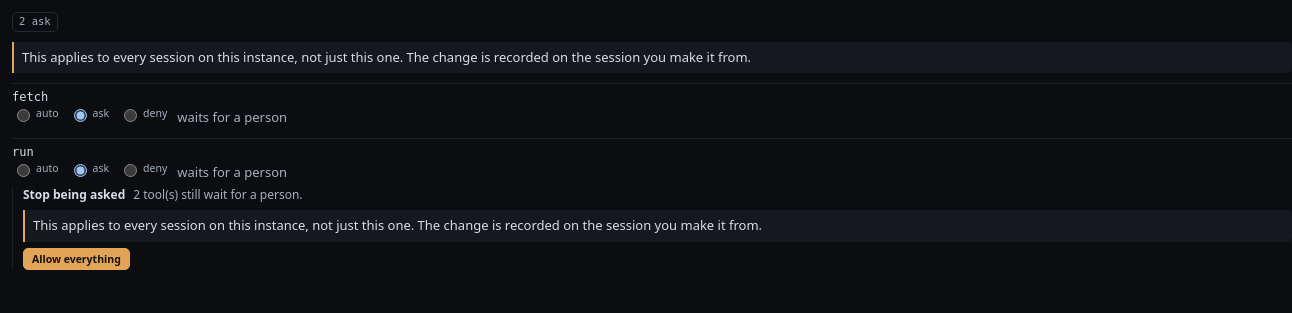
it: shows the same state on both surfaces after a write
Expected: the radio button labelled "ask" below "fetch" is checked, [74,109,86,122]
Click the button "Allow everything" at point(76, 259), box [23,248,130,270]
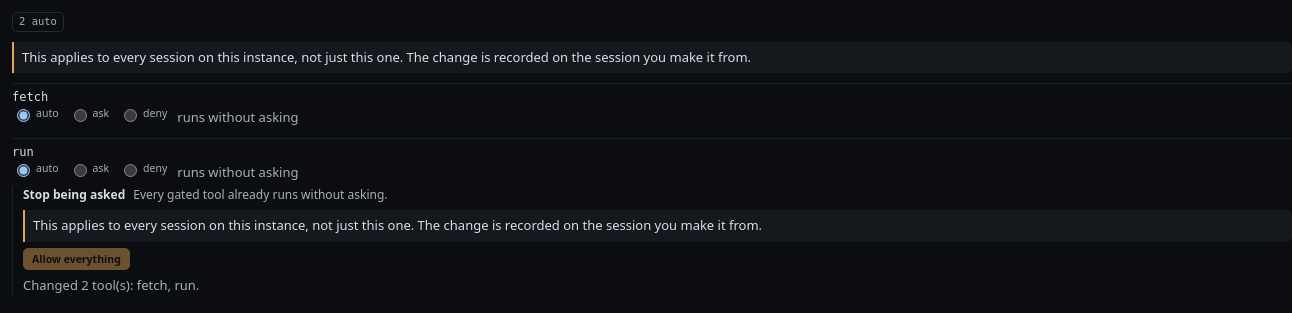
Now the 1st radio button labelled "auto" is checked, box [17,109,30,122]
